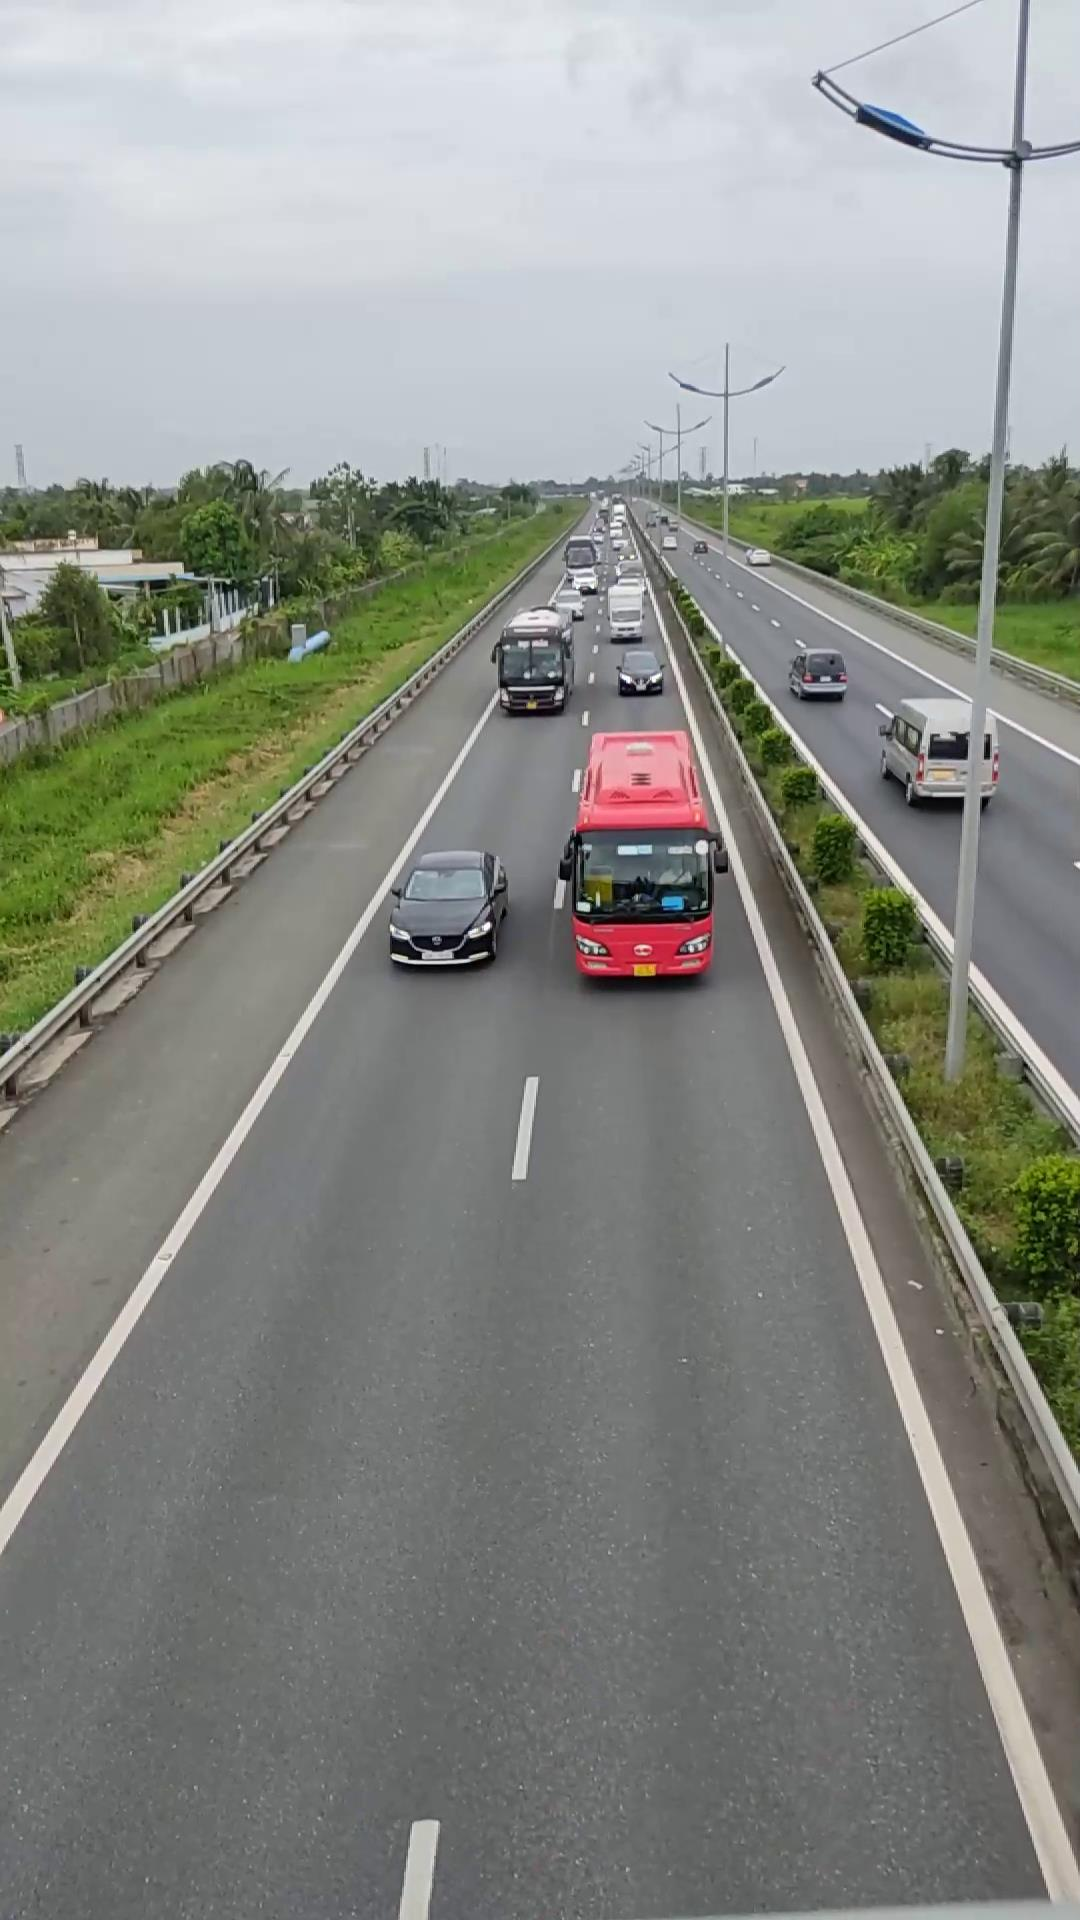bus: (556, 725, 723, 982), (495, 607, 572, 713)
car: (384, 847, 509, 968), (876, 690, 998, 808)
